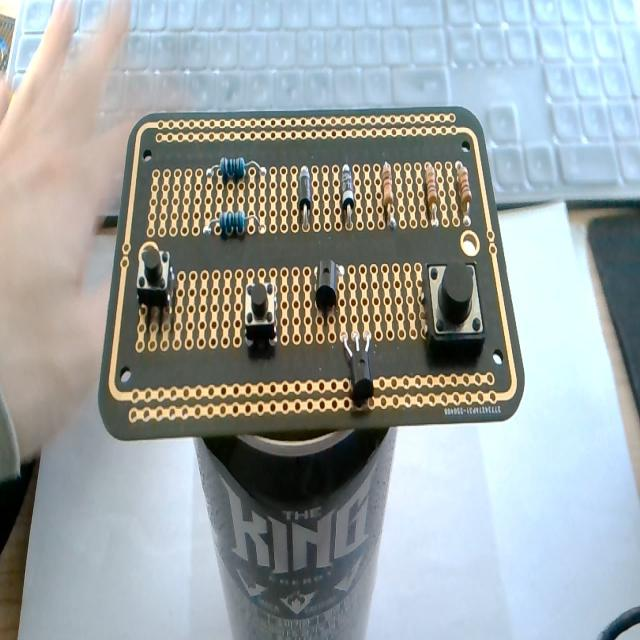diode: (341, 163, 355, 228), (298, 166, 312, 231)
resistor: (202, 210, 260, 238), (206, 155, 266, 182), (454, 158, 472, 226), (424, 162, 440, 226), (382, 161, 396, 229)
switch: (423, 259, 484, 347), (136, 243, 175, 321), (244, 278, 278, 345)
transistor: (334, 328, 382, 408), (314, 259, 342, 312)
